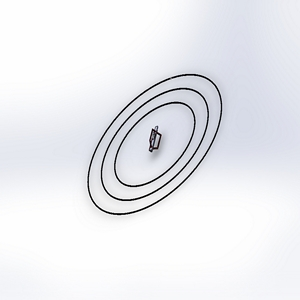circle: (82, 68, 227, 225)
submarine: (141, 123, 168, 157)
